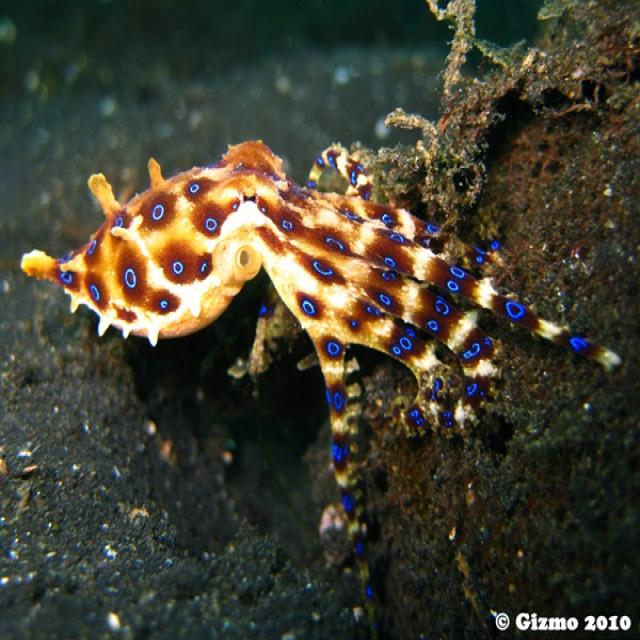blue_ringed_octopus: (18, 137, 624, 596)
